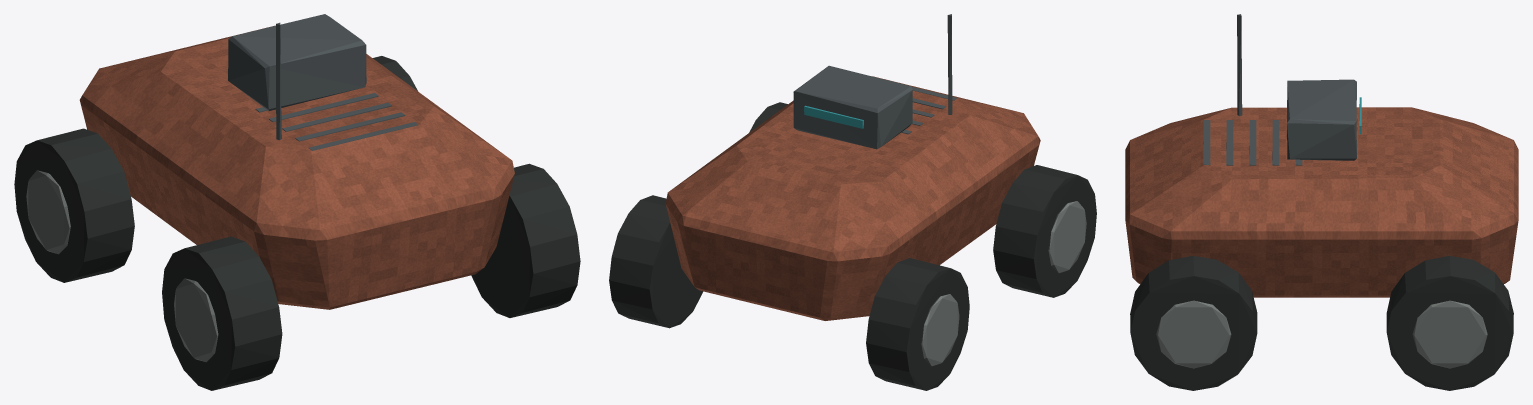
3 renders of one model, left to right at view 1: azimuth 30°, elevation 25°; view 2: azimuth 150°, elevation 25°; view 3: azimuth 270°, elevation 25°, orthographic. The views are drawn at different scales.
Parts seen in each view (by area): view 1: ST2-E01_Mesh, Wheel_L_Rear_Mesh, Wheel_L_Front_Mesh, Wheel_R_Rear_Mesh, SensorYaw_Mesh; view 2: ST2-E01_Mesh, Wheel_L_Rear_Mesh, Wheel_L_Front_Mesh, Wheel_R_Front_Mesh, SensorYaw_Mesh; view 3: ST2-E01_Mesh, Wheel_R_Rear_Mesh, Wheel_R_Front_Mesh, SensorYaw_Mesh.
Part boxes in pixels (bbox=[...]): ST2-E01_Mesh: bbox=[79, 22, 514, 309]; Wheel_L_Rear_Mesh: bbox=[162, 236, 282, 390]; Wheel_L_Front_Mesh: bbox=[14, 128, 134, 282]; Wheel_R_Rear_Mesh: bbox=[471, 163, 580, 317]; SensorYaw_Mesh: bbox=[228, 14, 366, 110]; ST2-E01_Mesh: bbox=[665, 14, 1040, 320]; Wheel_L_Rear_Mesh: bbox=[993, 165, 1096, 297]; Wheel_L_Front_Mesh: bbox=[866, 258, 969, 390]; Wheel_R_Front_Mesh: bbox=[609, 195, 703, 328]; SensorYaw_Mesh: bbox=[793, 65, 912, 149]; ST2-E01_Mesh: bbox=[1125, 14, 1518, 297]; Wheel_R_Rear_Mesh: bbox=[1130, 255, 1257, 390]; Wheel_R_Front_Mesh: bbox=[1386, 256, 1513, 390]; SensorYaw_Mesh: bbox=[1287, 79, 1361, 160].
Size of the model in its own units: 2.17 by 1.85 by 2.39.
6 materials, 1 textured.
